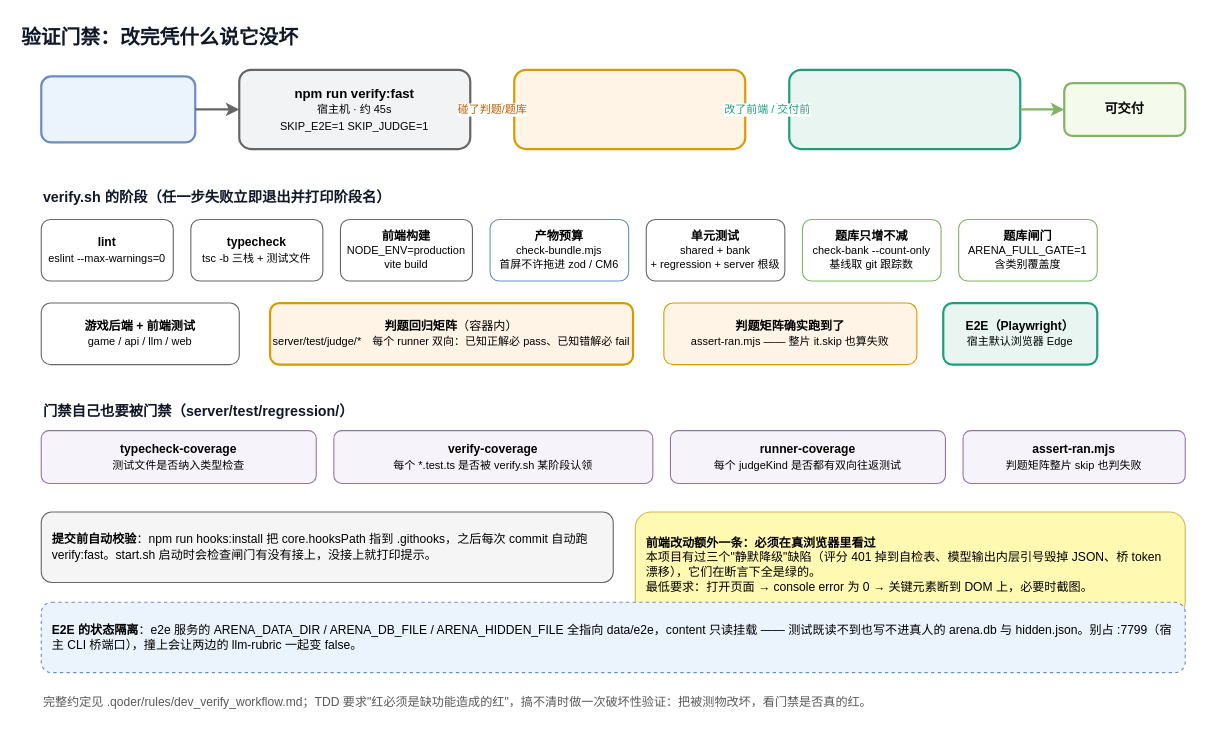
This 1205x733 diagram has some shape labels left out. Each missing label, with the box of its shape:
一次改动: (40, 75, 196, 143)
容器内 npm run verify ./start.sh --verify 必须报 0 skipped: (513, 68, 746, 150)
宿主 npm run e2e 起独立隔离实例 127.0.0.1:7798 · data/e2e: (788, 68, 1021, 150)
